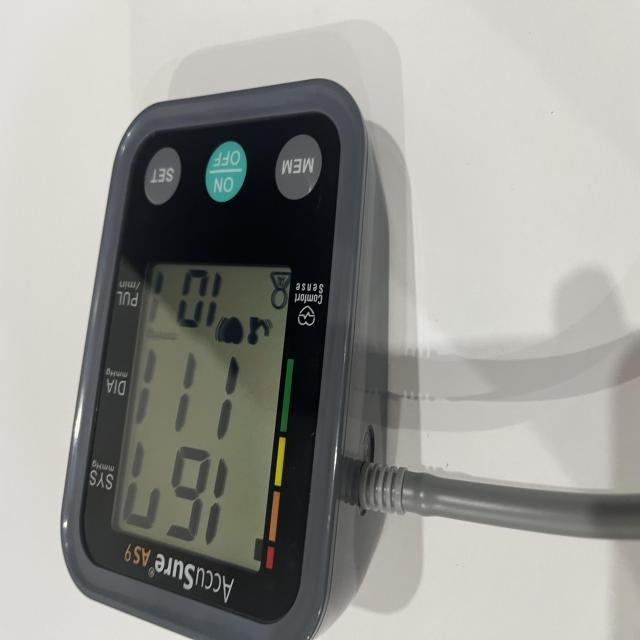bp: (59, 74, 377, 640)
